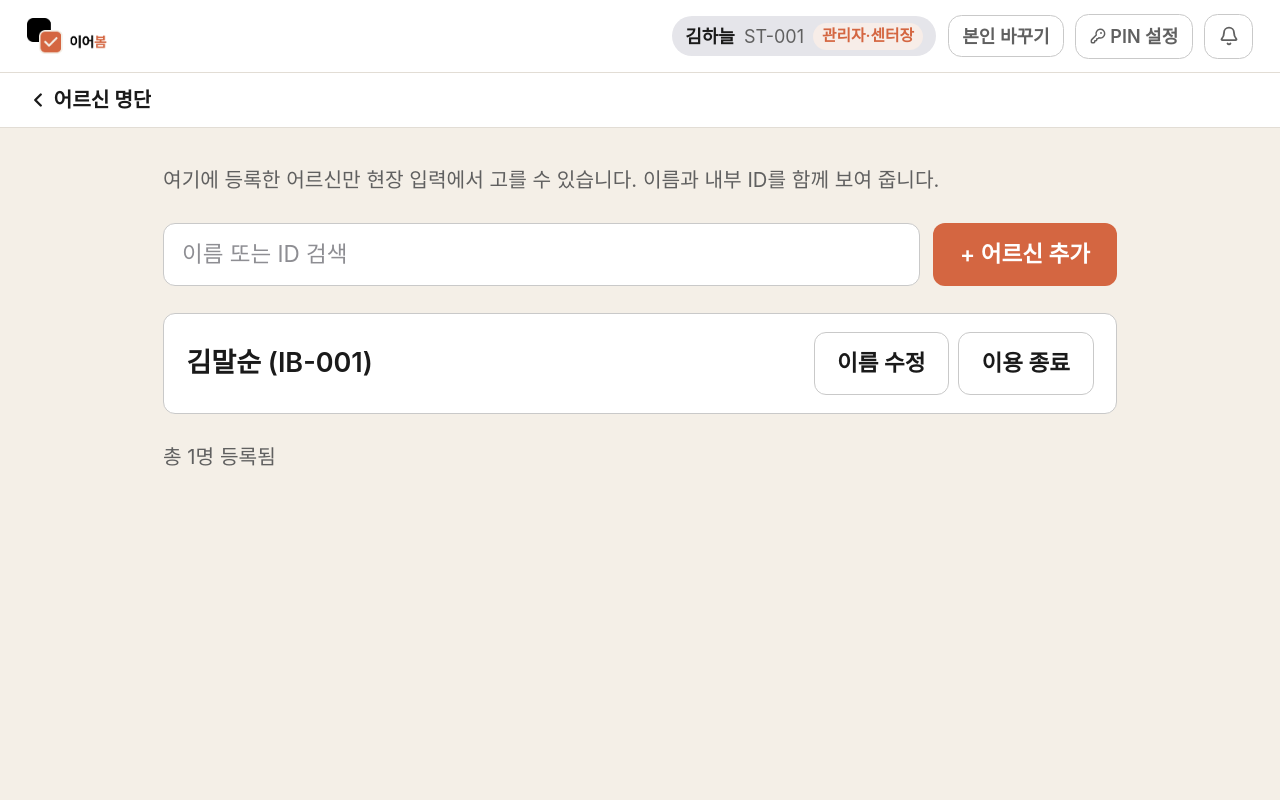
Test case: 어르신 등록 (n51 · n52 · n53) › 이름을 등록하면 모달이 닫히고 목록에 내부 ID와 함께 나타난다
Expected: the text "김말순 (IB-001)" is shown, [186,345,373,381]
Click the button "+ 어르신 추가" at (1025, 254), box [933,222,1117,286]
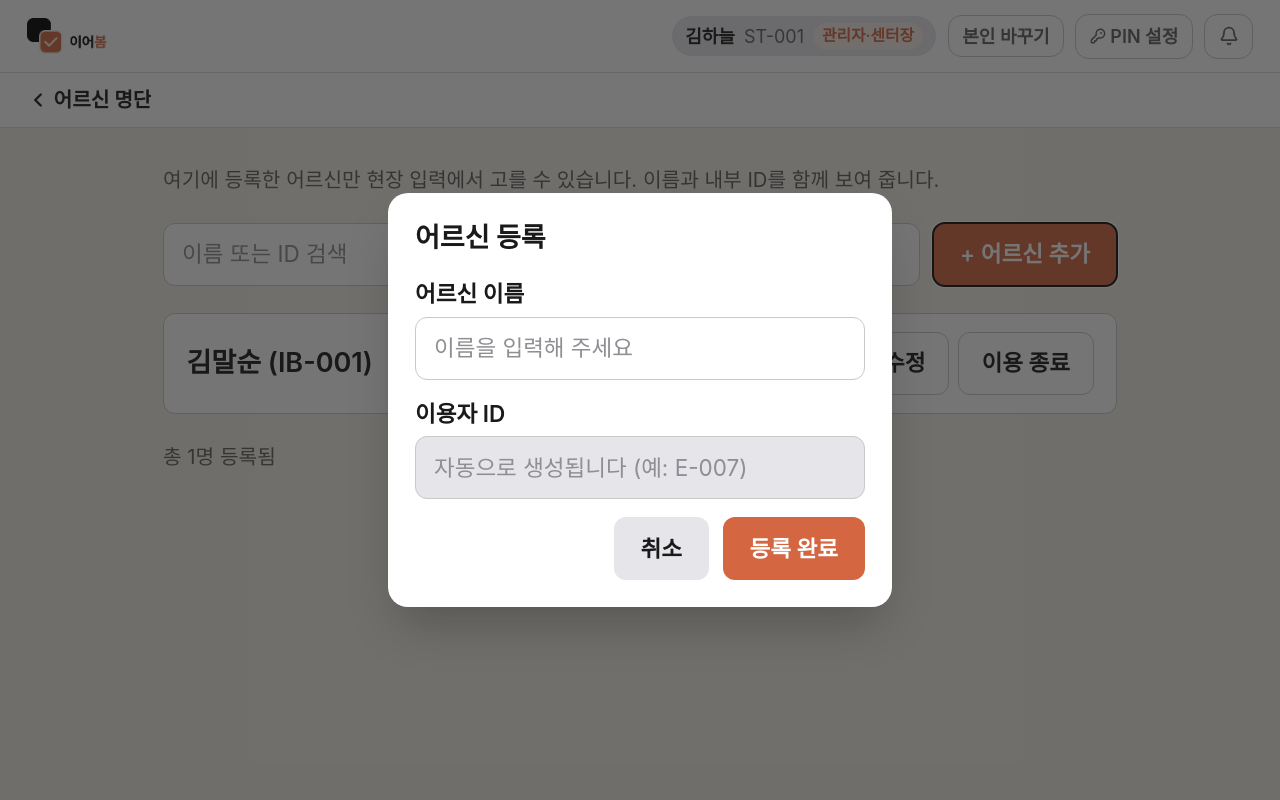
Type "홍길동" into the field labelled "어르신 이름" at (640, 348), box [415,317,865,380]
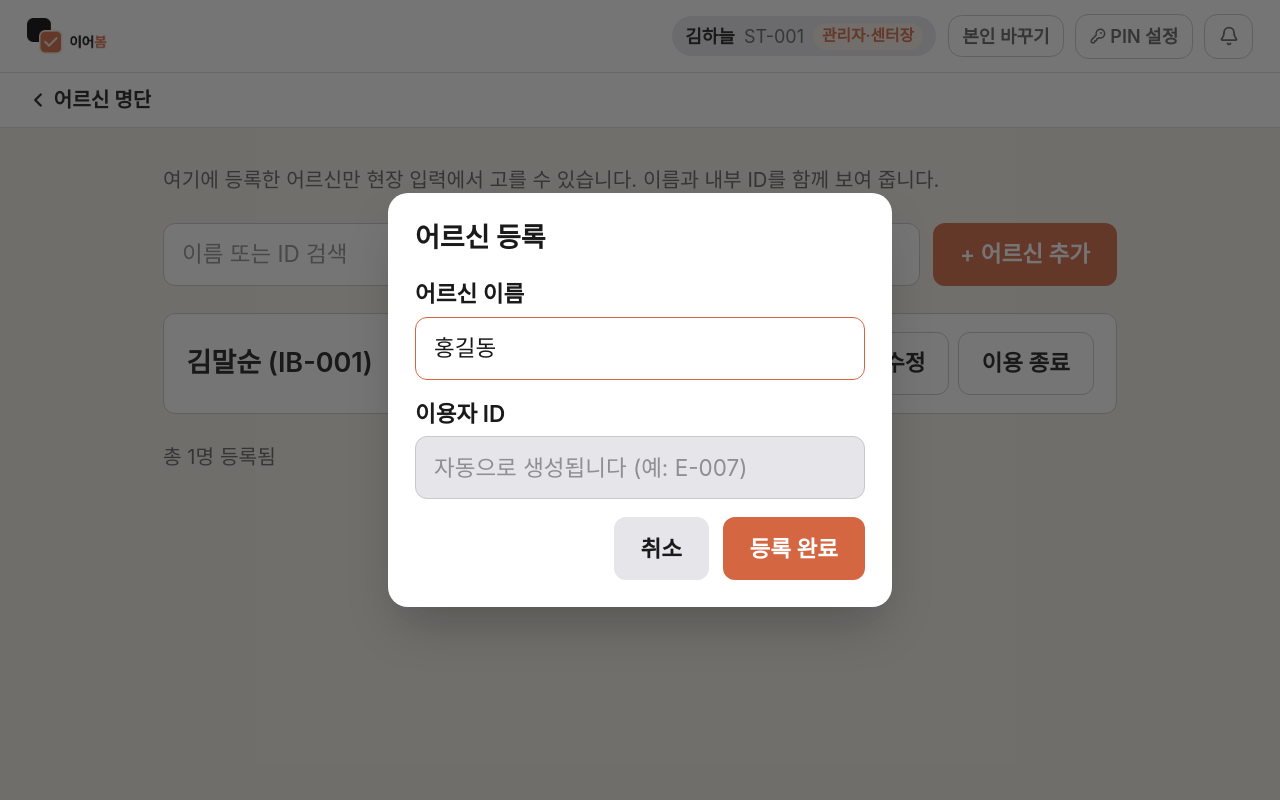
Click the button "등록 완료" at (794, 548), box [722,517,865,580]
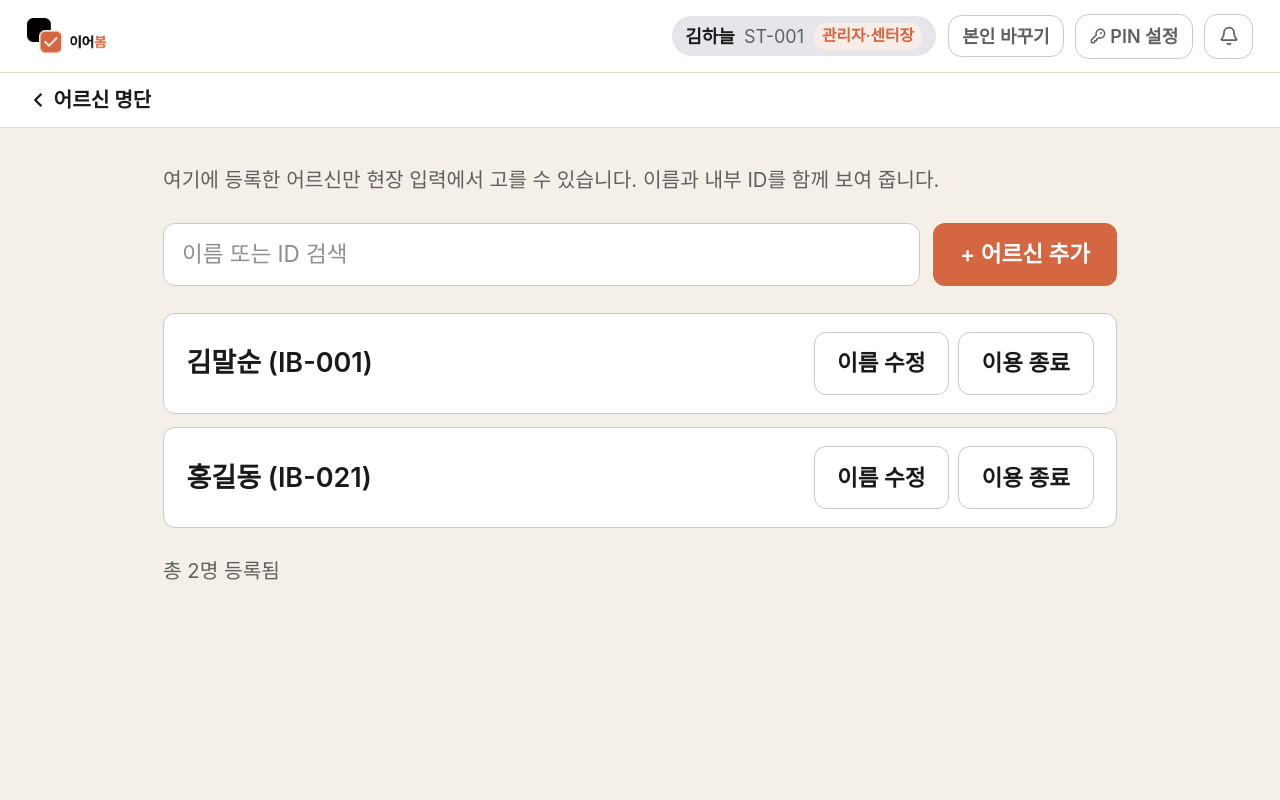
Expected: the text "홍길동 (IB-021)" is shown, [186,460,372,496]
Expected: the dialog is gone
